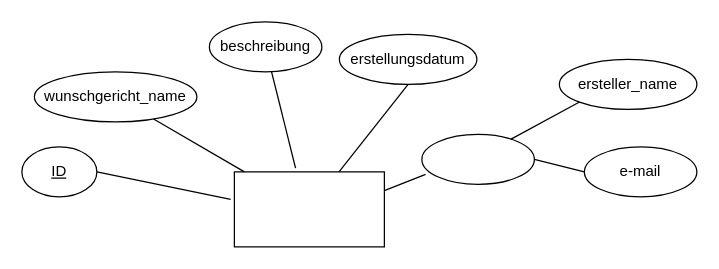
The diagram is 719 pixels wide and 269 high, and some of its shapes have lost their labels. The centre of each missing label's shape, as x and y in pixels:
"ersteller" belongs at point (477, 158).
"wunschgericht" belongs at point (308, 209).
